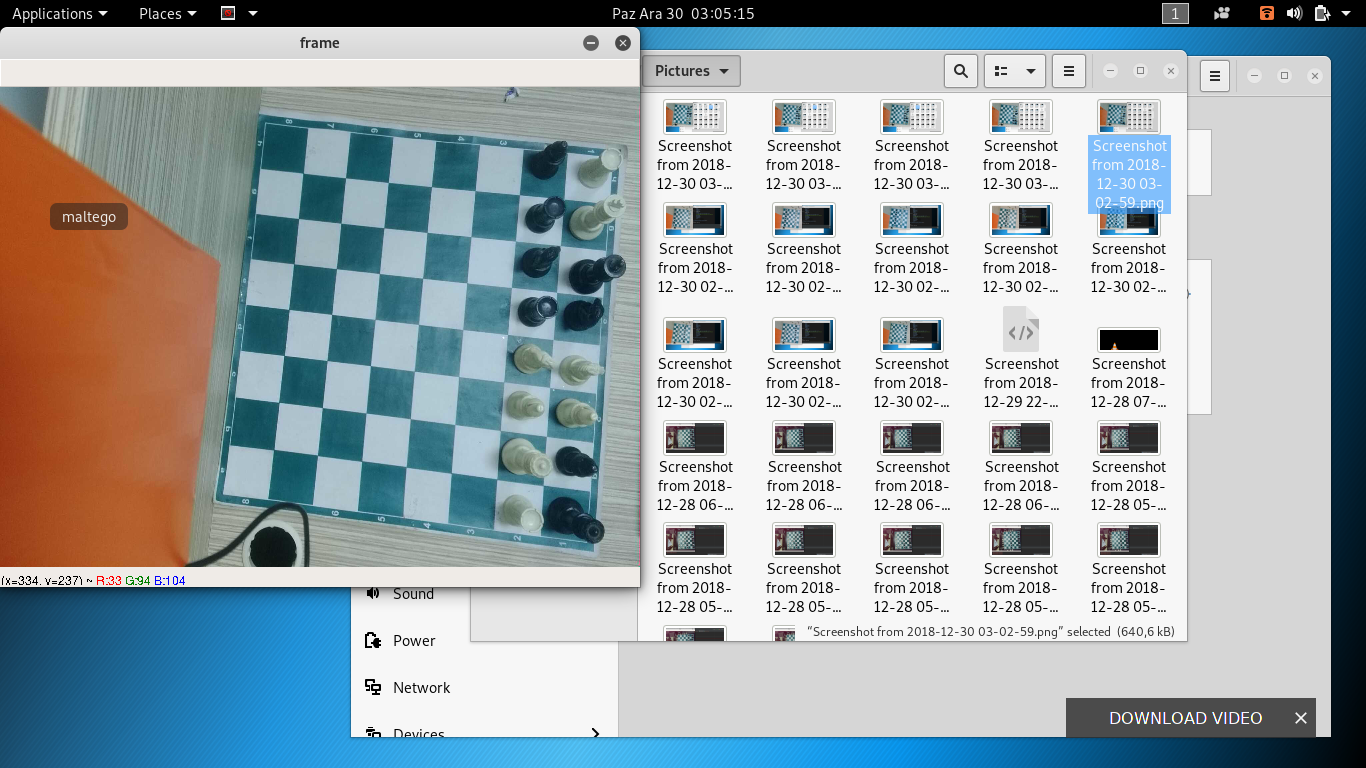BeyazAt: (560, 352, 606, 384), (511, 343, 555, 374)
BeyazFil: (556, 397, 601, 431), (505, 389, 547, 424)
BeyazKale: (501, 493, 544, 532), (578, 148, 621, 185)
BeyazSah: (570, 194, 624, 238)
BeyazVezir: (501, 436, 552, 478)
SiyahAt: (562, 298, 605, 334), (523, 244, 561, 279)
SiyahFil: (529, 140, 569, 180), (556, 446, 599, 479)
SiyahKale: (515, 295, 560, 328), (524, 197, 565, 233)
SiyahSah: (568, 252, 627, 295)
SiyahVezir: (547, 496, 606, 544)
